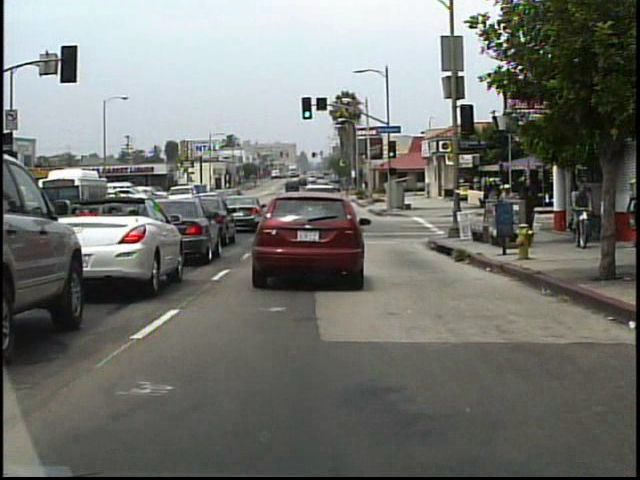person: (519, 176, 538, 240), (499, 180, 520, 236), (576, 182, 596, 237), (601, 188, 616, 244), (578, 183, 579, 237)
